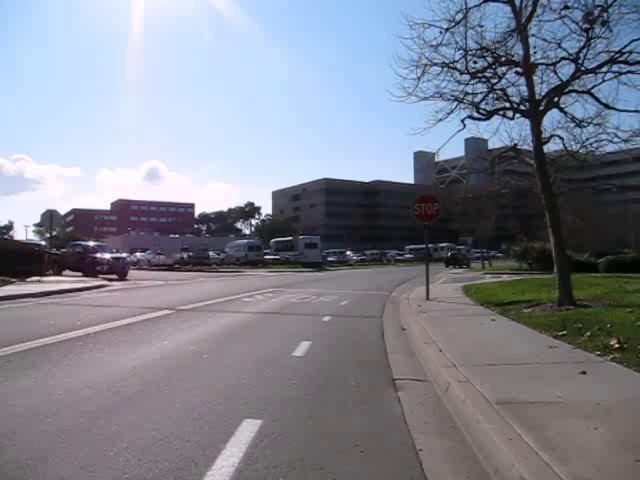stop: (410, 191, 444, 224)
